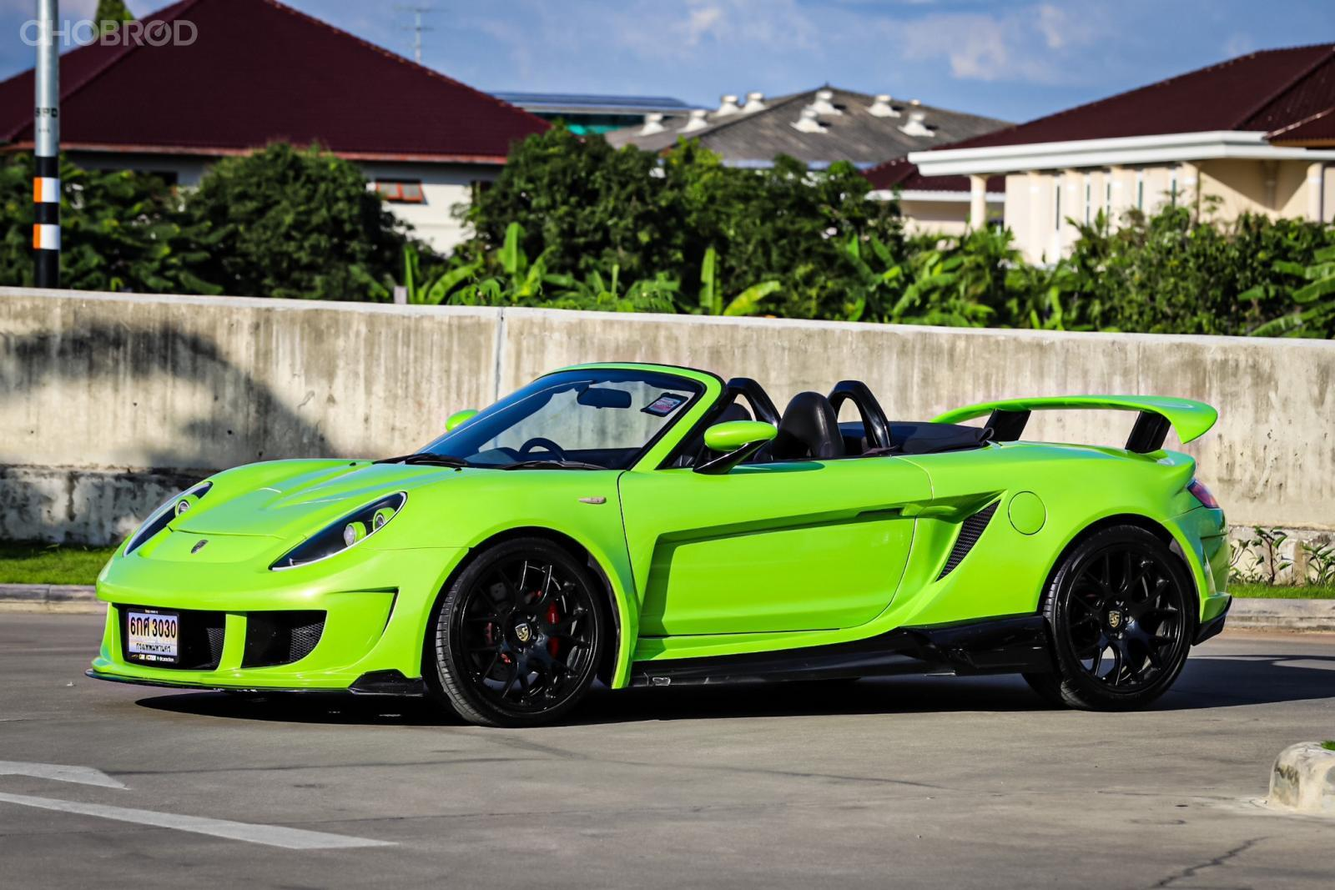license-plate: (115, 608, 185, 667)
